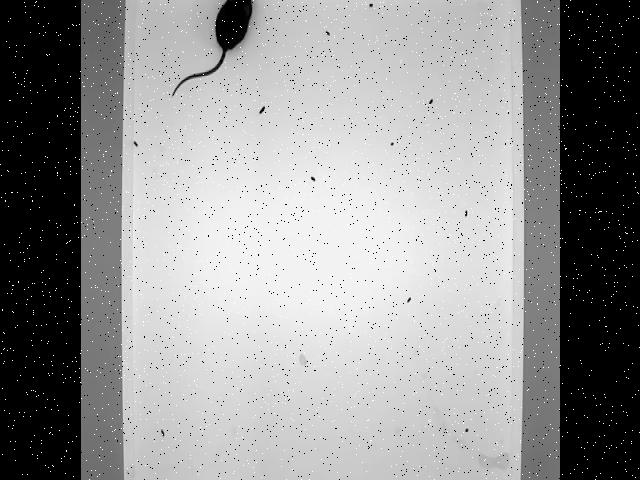Tikus: (167, 0, 256, 100)
